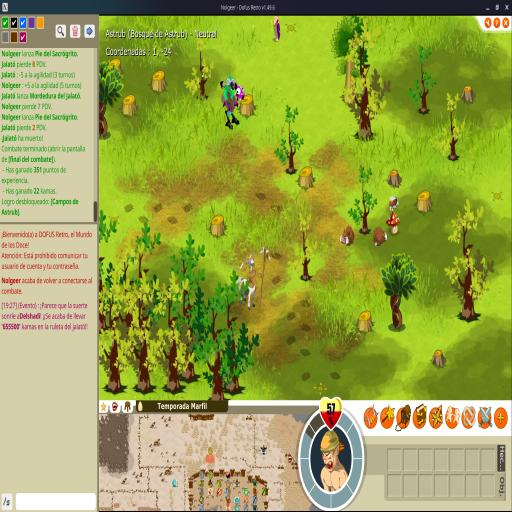Enemigos: (386, 211, 401, 235), (372, 226, 388, 248), (340, 224, 355, 246), (388, 196, 400, 214)
Personaje: (272, 17, 281, 46)
